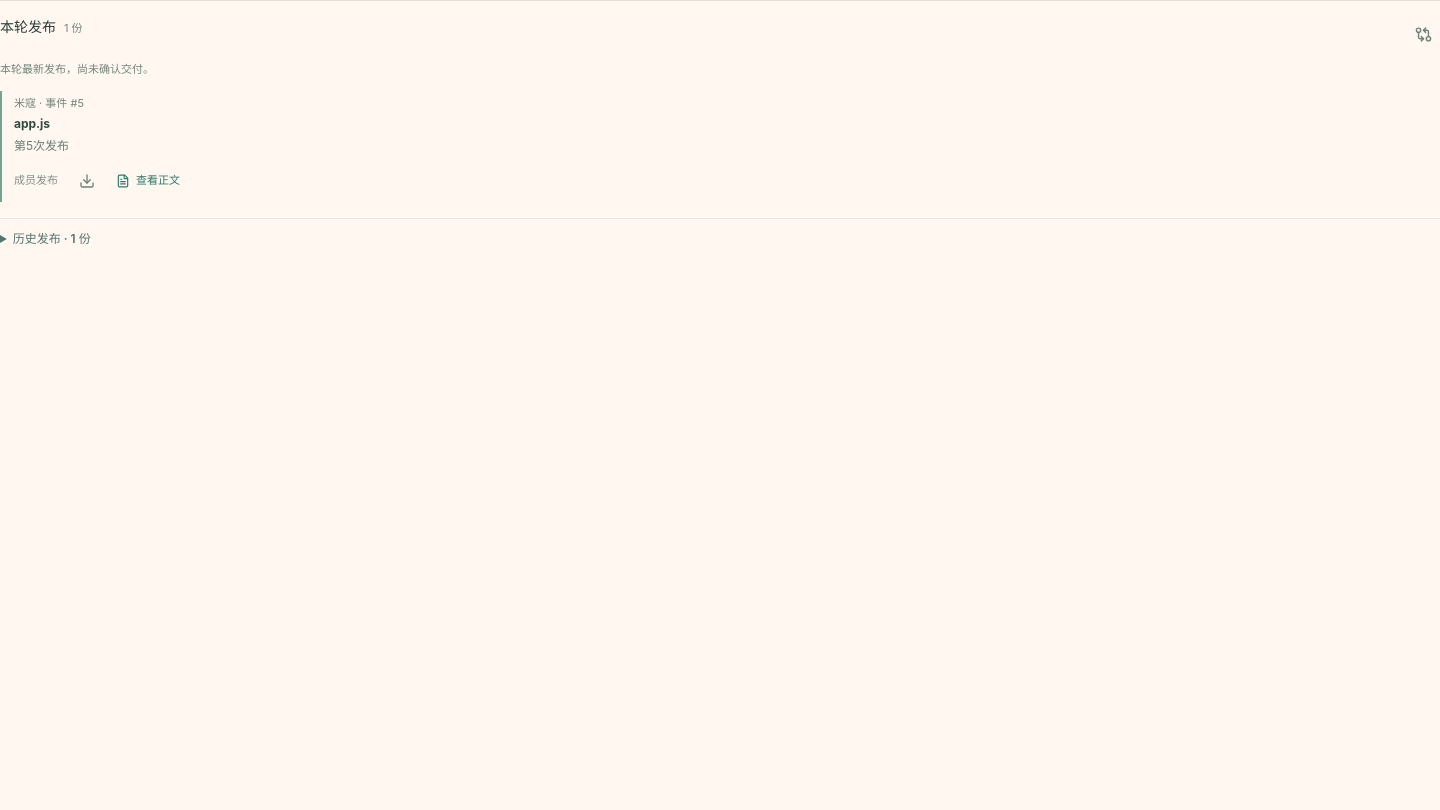
Test case: 只展示最新候选，历史默认折叠且正文可查看，不发请求或启动任务
The width and height of the screenshot is (1440, 810).
Expected: the list named "本轮发布" shows "事件 #5", [0, 91, 1439, 202]
Expected: the list "本轮发布" does not show "事件 #2"
Click the heading "历史发布 · 1 份" at (52, 238), box [13, 230, 91, 246]
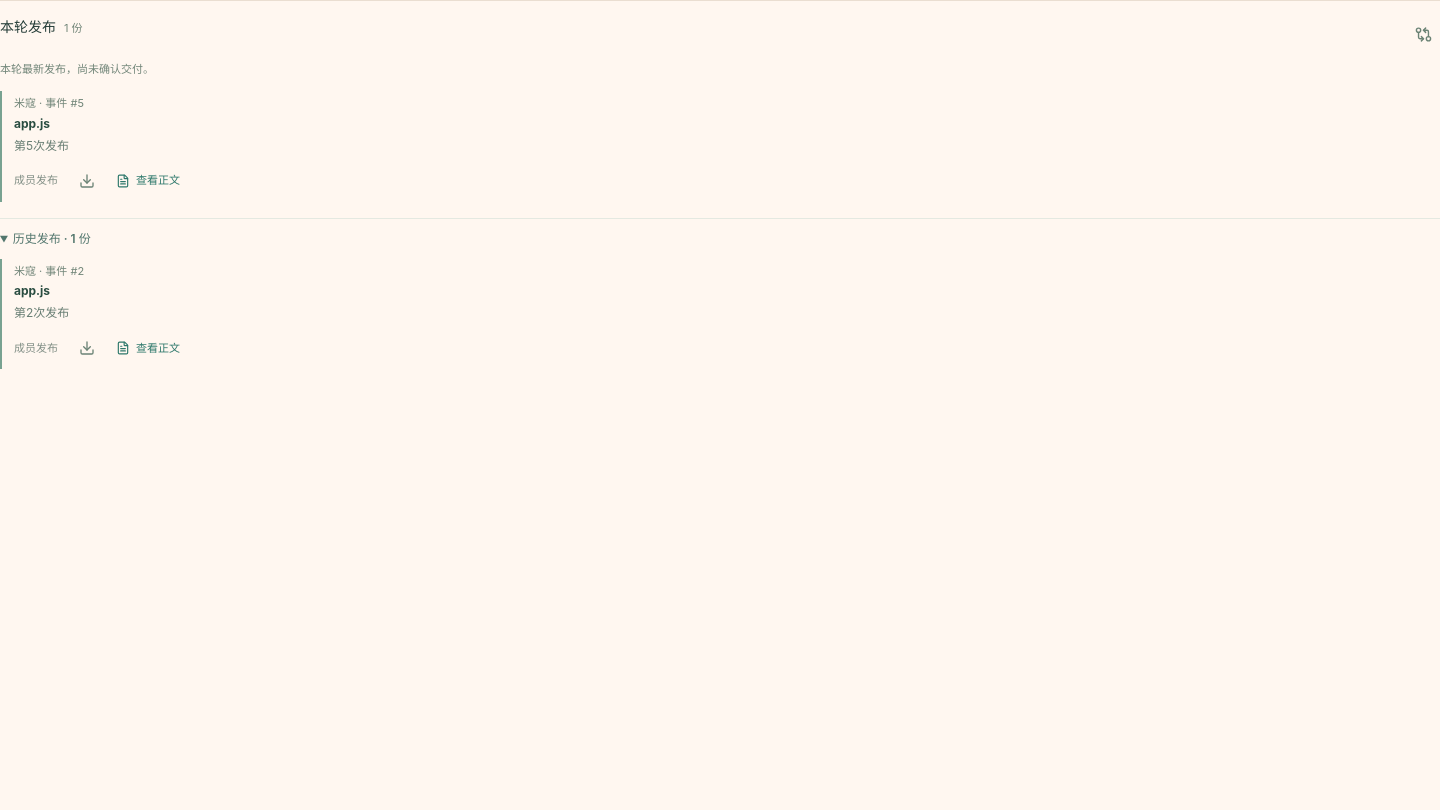
Expected: the list named "历史发布" shows "米寇 · 事件 #2", [0, 258, 1439, 369]
Click the button "查看正文" below "第2次发布" at (148, 348), box [116, 340, 180, 356]
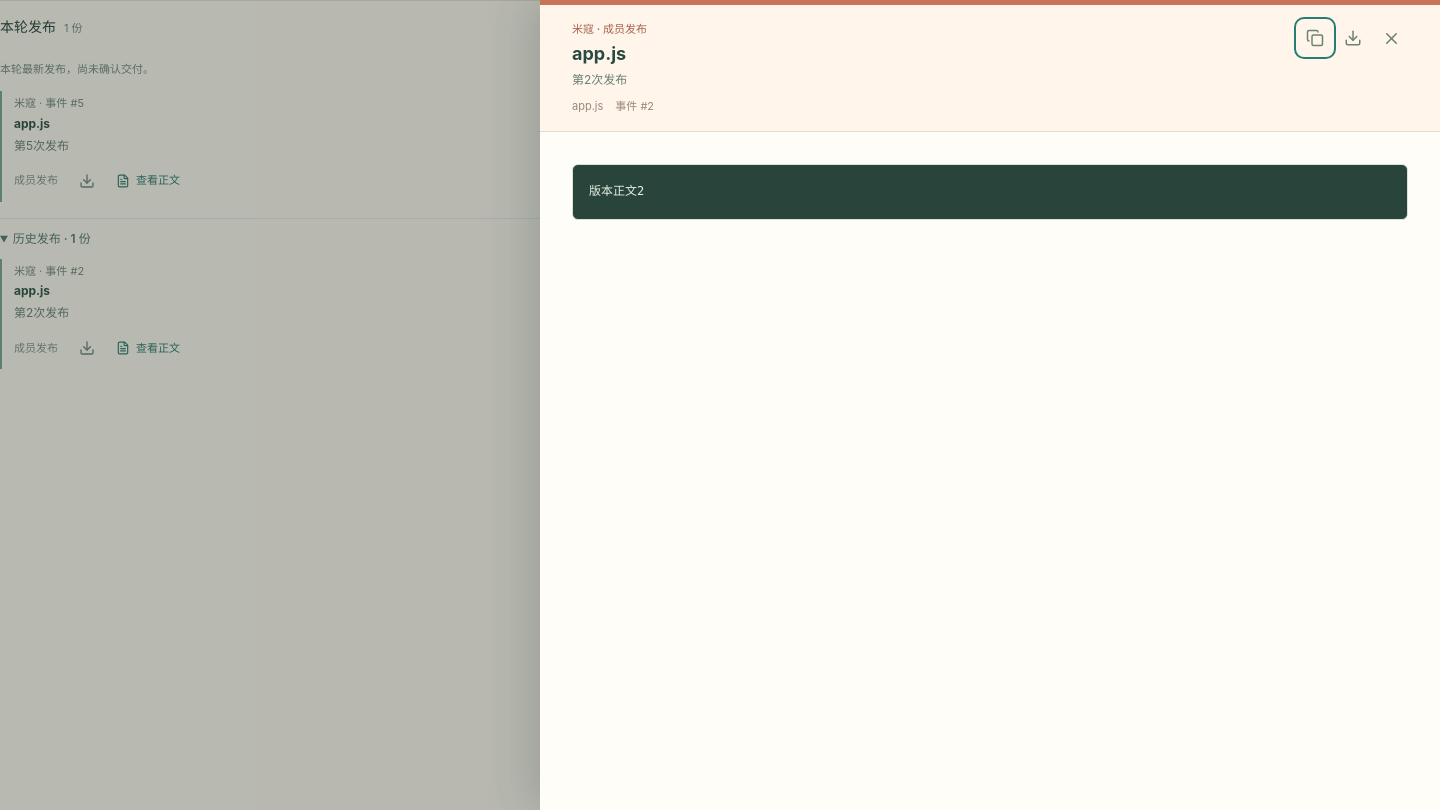
Expected: the dialog shows "版本正文2", [589, 184, 644, 198]
Press Escape in the dialog
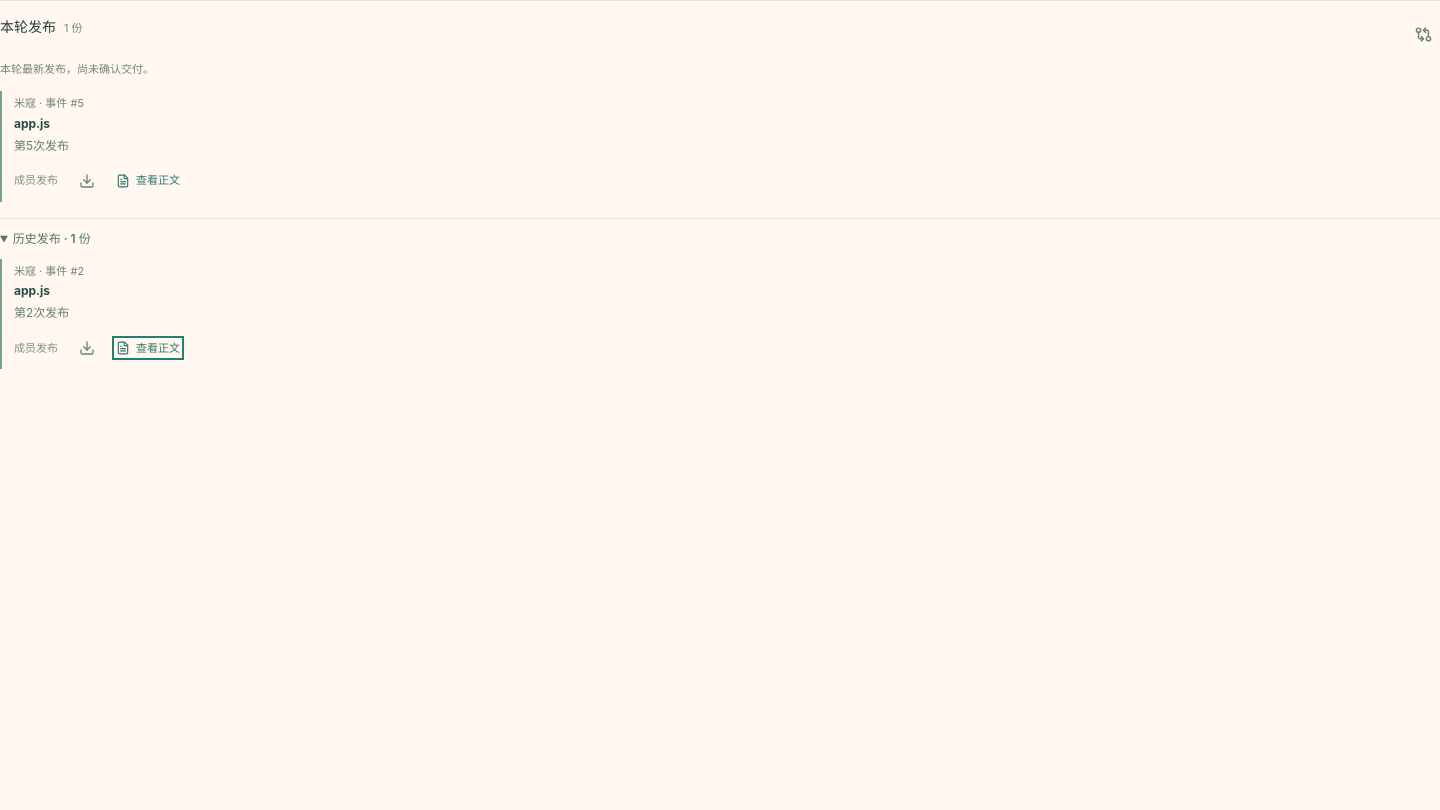
Expected: the dialog is gone
